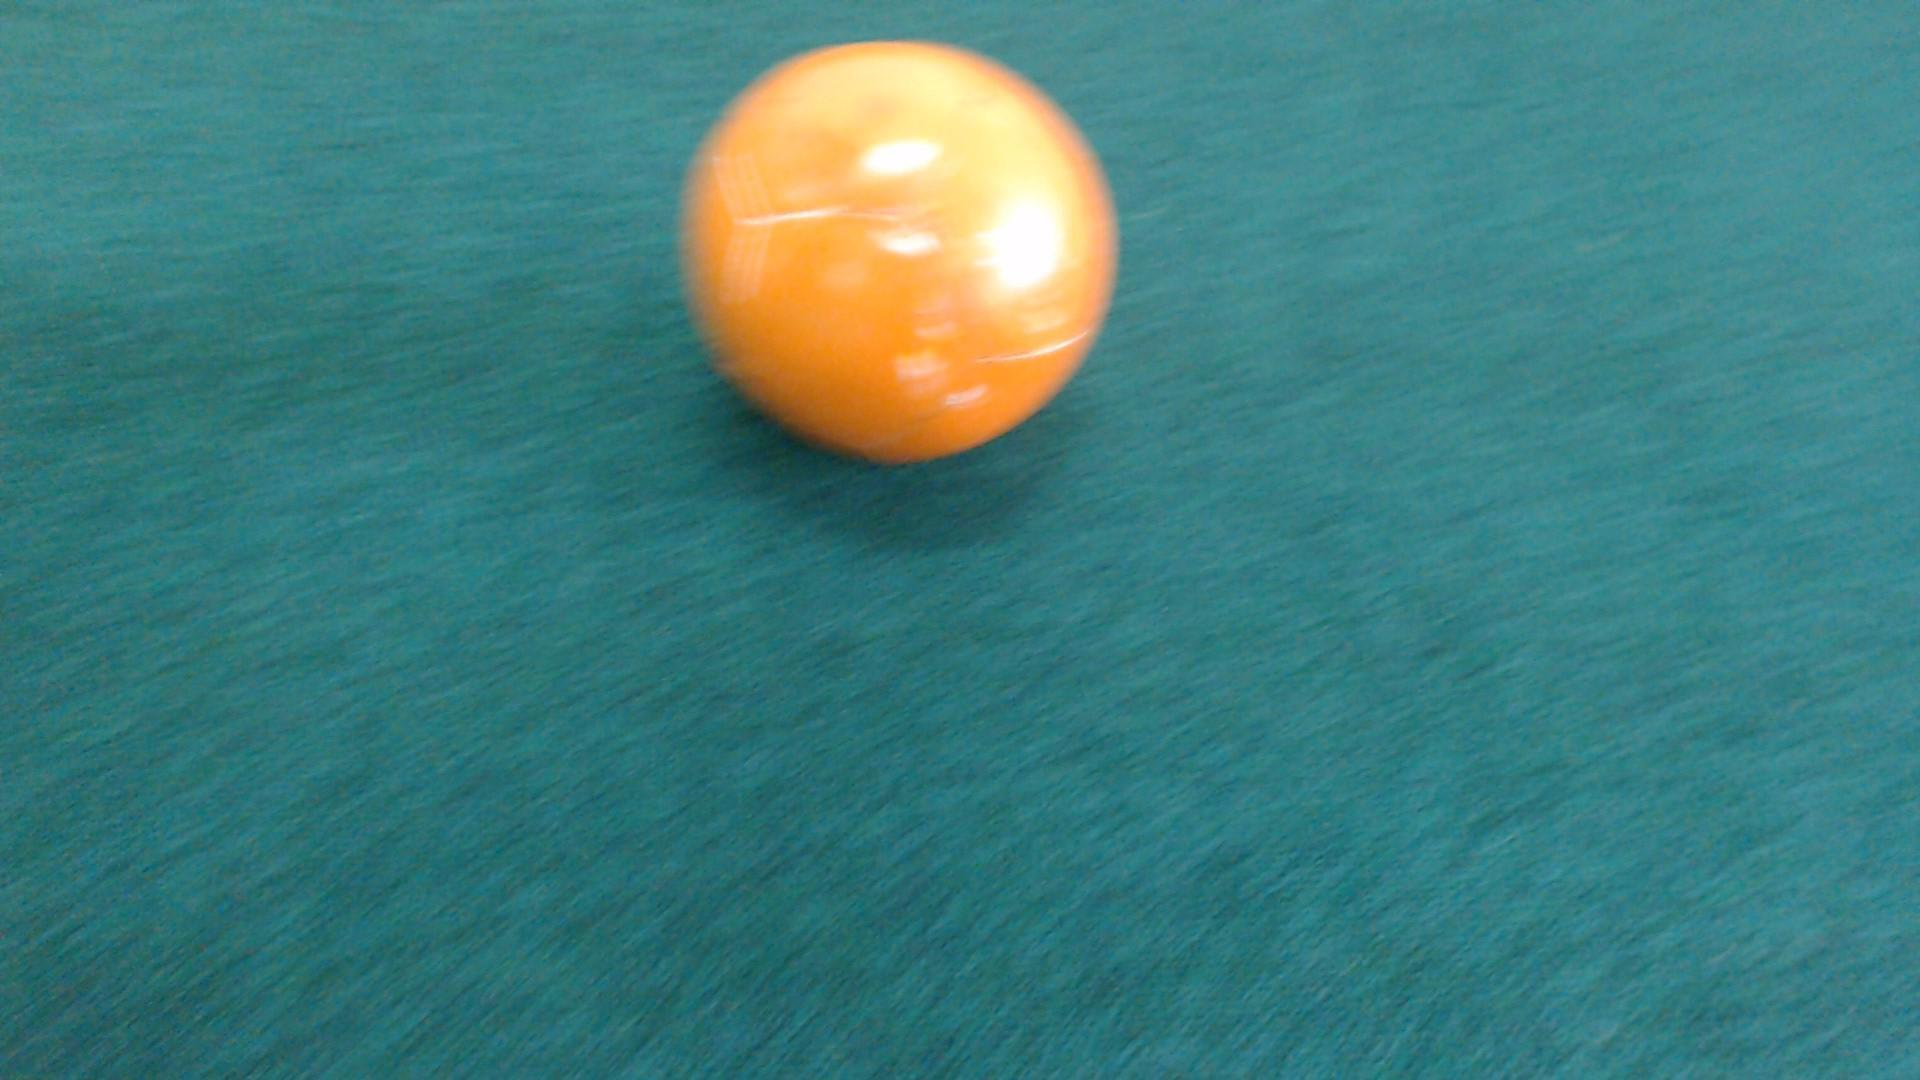bola: (661, 17, 1145, 497)
